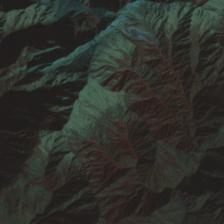landslides: (128, 28, 159, 49), (101, 69, 131, 86), (118, 11, 140, 22), (194, 73, 203, 89)
